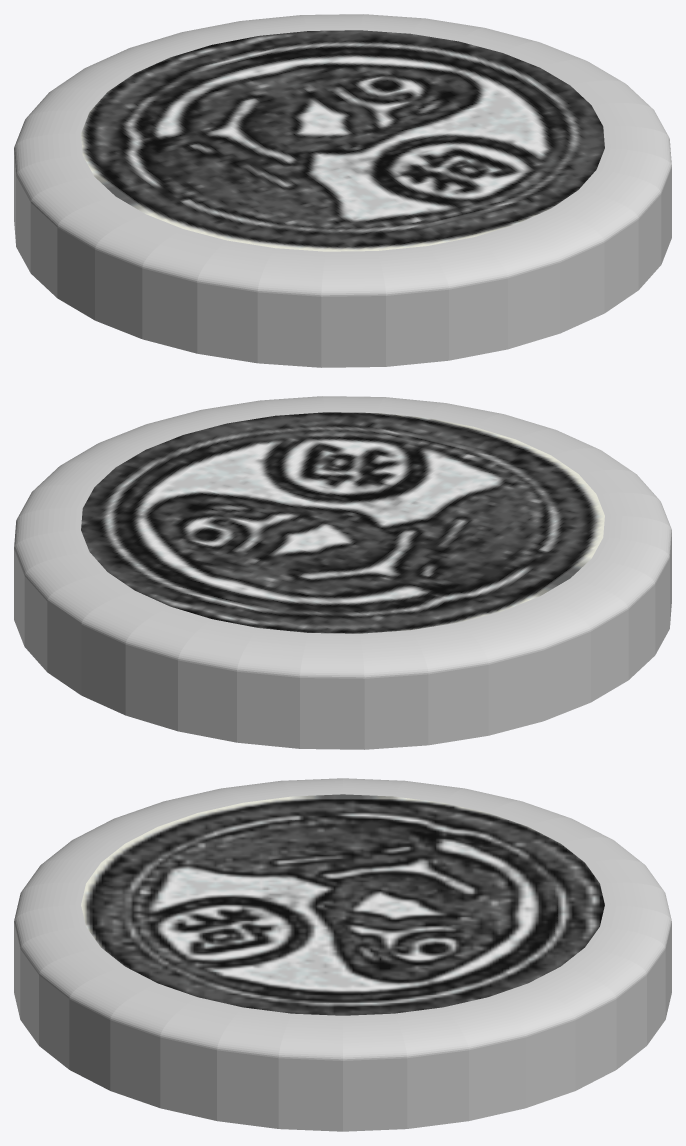
The model's file is Black Dog.fbx.
3 renders of one model, top to bottom at view 1: azimuth 30°, elevation 25°; view 2: azimuth 150°, elevation 25°; view 3: azimuth 270°, elevation 25°, orthographic.
Visible parts, largest first — view 1: Cylinder.002; view 2: Cylinder.002; view 3: Cylinder.002.
Part boxes in pixels (x1,y1,x2,y2): Cylinder.002: (14, 14, 671, 367); Cylinder.002: (14, 396, 671, 749); Cylinder.002: (14, 778, 671, 1131).
Size of the model in its own units: 151 by 22.19 by 151.
2 materials, 1 textured.
